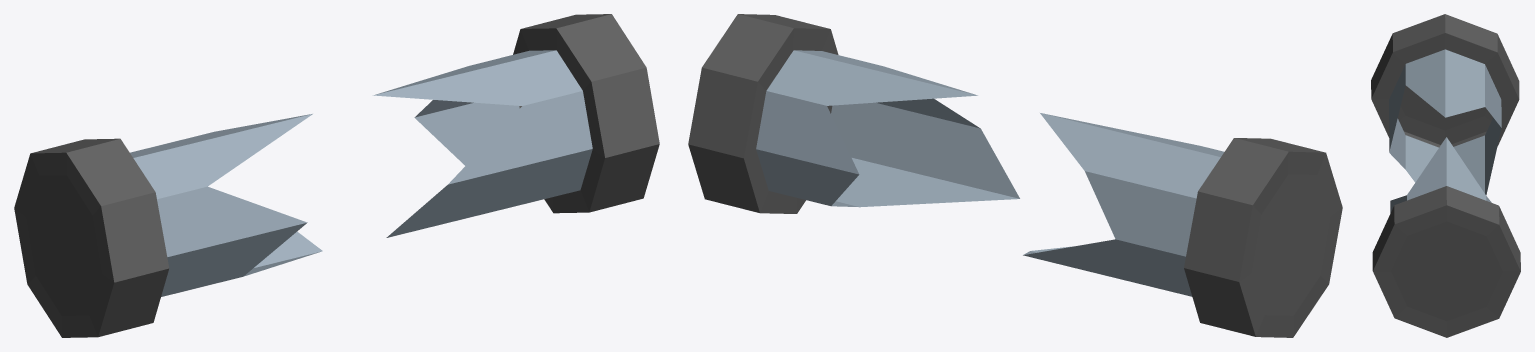
The model's file is fusbile cassé.fbx.
3 renders of one model, left to right at view 1: azimuth 30°, elevation 25°; view 2: azimuth 150°, elevation 25°; view 3: azimuth 270°, elevation 25°, orthographic. The views are drawn at different scales.
Visible parts, largest first — view 1: polySurface22; view 2: polySurface22; view 3: polySurface22.
Boxes of the visible parts, bbox=[...] form: polySurface22: bbox=[14, 14, 659, 337]; polySurface22: bbox=[688, 14, 1342, 337]; polySurface22: bbox=[1371, 14, 1520, 337].
Size of the model in its own units: 1.59 by 0.521 by 0.5147.
